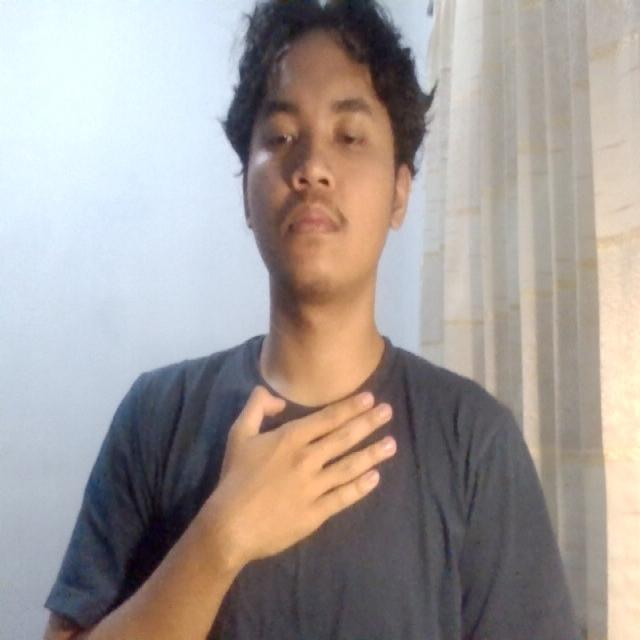Nama: (182, 356, 424, 576)
